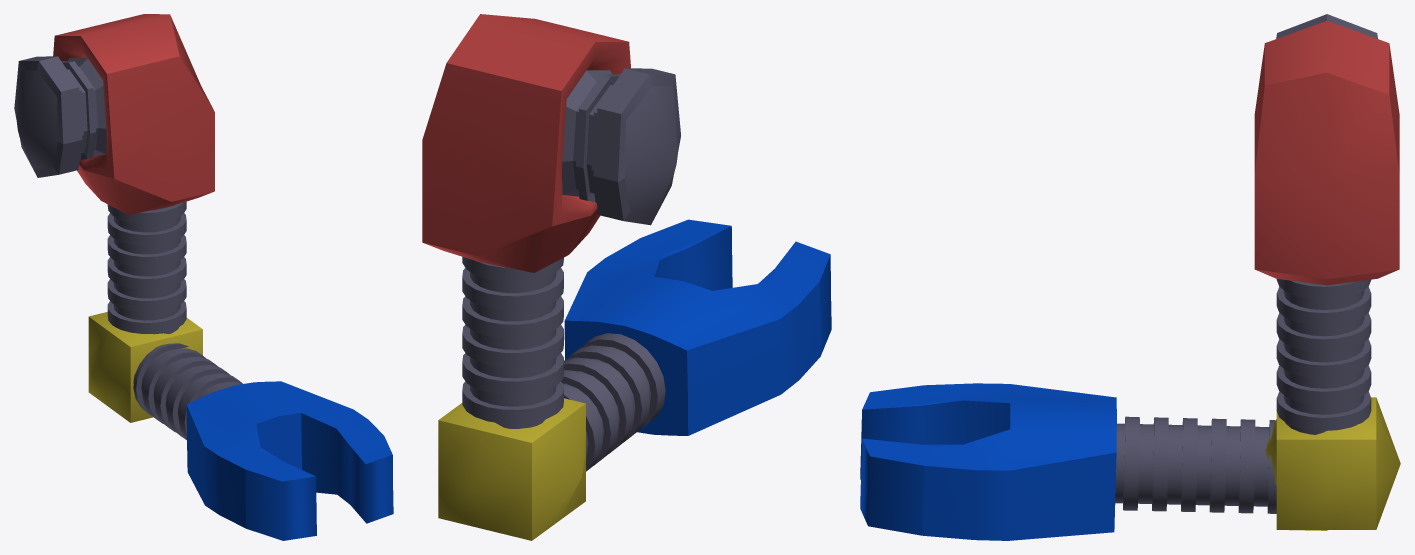
File: Robot_Arm_left_A.fbx
The picture shows the model from 3 angles, left to right: view 1: azimuth 30°, elevation 25°; view 2: azimuth 150°, elevation 25°; view 3: azimuth 270°, elevation 25°; orthographic projection. The views are drawn at different scales.
Visible parts, largest first — view 1: pCube13, polySurface46, pCylinder7, pCube14, polySurface45; view 2: pCube13, polySurface46, pCube14, pCylinder7, polySurface45; view 3: polySurface46, pCube13, polySurface45, pCylinder7, pCube14.
Boxes of the visible parts, x1=… form: pCube13: x1=14, y1=14, x2=214, y2=214; polySurface46: x1=186, y1=381, x2=393, y2=540; pCylinder7: x1=107, y1=201, x2=186, y2=334; pCube14: x1=88, y1=312, x2=202, y2=422; polySurface45: x1=133, y1=343, x2=242, y2=439; pCube13: x1=422, y1=14, x2=680, y2=272; polySurface46: x1=564, y1=219, x2=831, y2=435; pCube14: x1=438, y1=398, x2=585, y2=540; pCylinder7: x1=462, y1=257, x2=563, y2=428; polySurface45: x1=561, y1=333, x2=665, y2=471; polySurface46: x1=860, y1=383, x2=1116, y2=540; pCube13: x1=1254, y1=14, x2=1399, y2=285; polySurface45: x1=1115, y1=416, x2=1276, y2=513; pCylinder7: x1=1276, y1=279, x2=1371, y2=434; pCube14: x1=1265, y1=397, x2=1400, y2=530.
Bounding box in the file's own units: 1.31 × 2.44 × 2.53.
